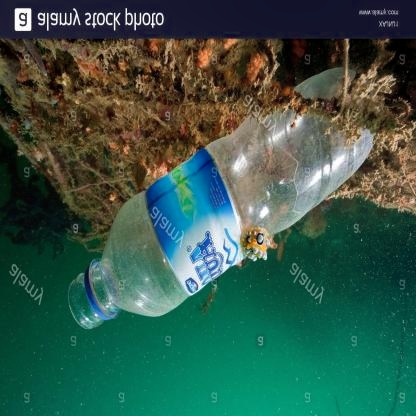pbottle: (61, 64, 379, 340)
